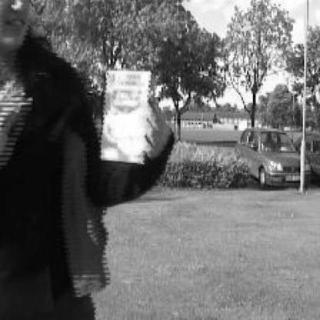other: (51, 129, 115, 289), (100, 62, 151, 162)
